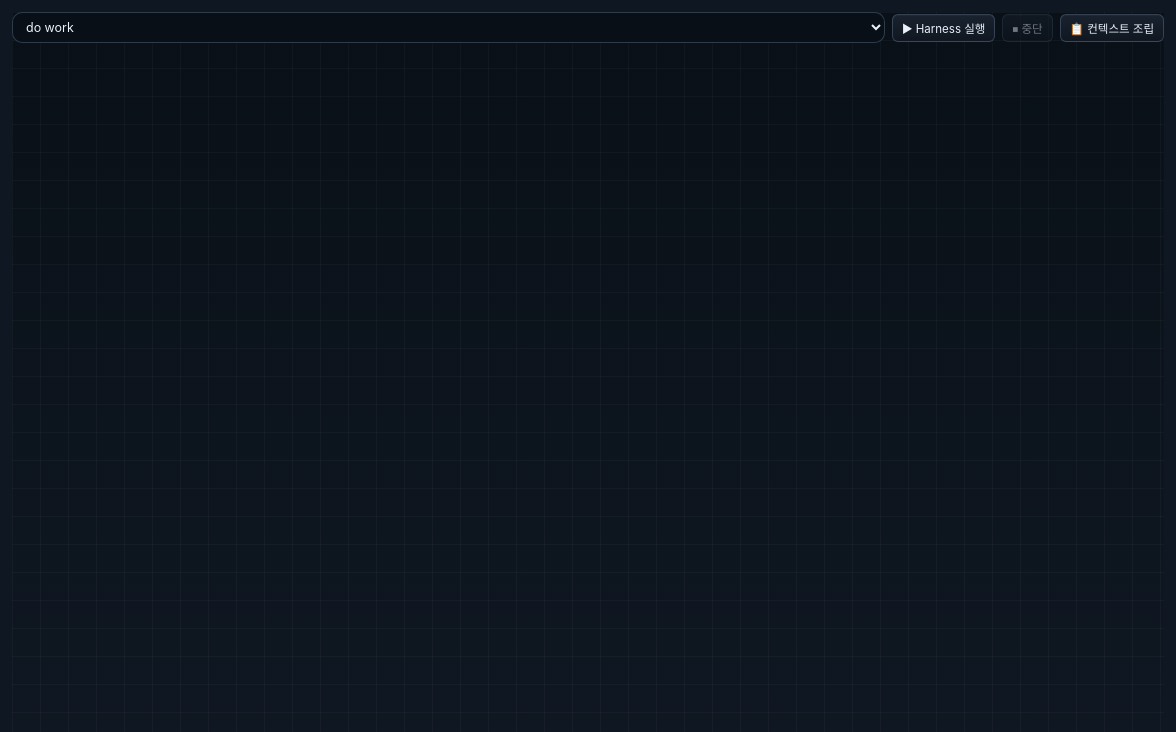
DevHarnessPanel › appends streamed log chunks to the log view
Click the button "▶ Harness 실행" at [944, 28], box [892,14,995,42]
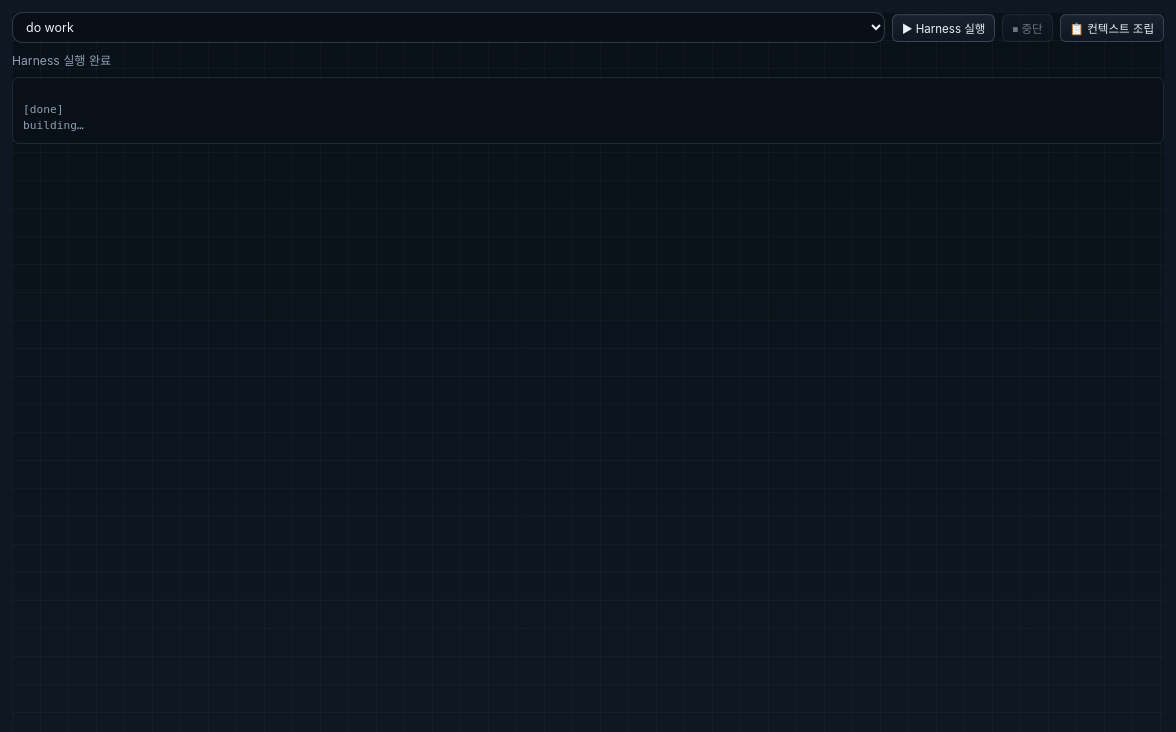
Now the text with test id "dev-harness-log" shows "building…", box [23,103,84,132]
